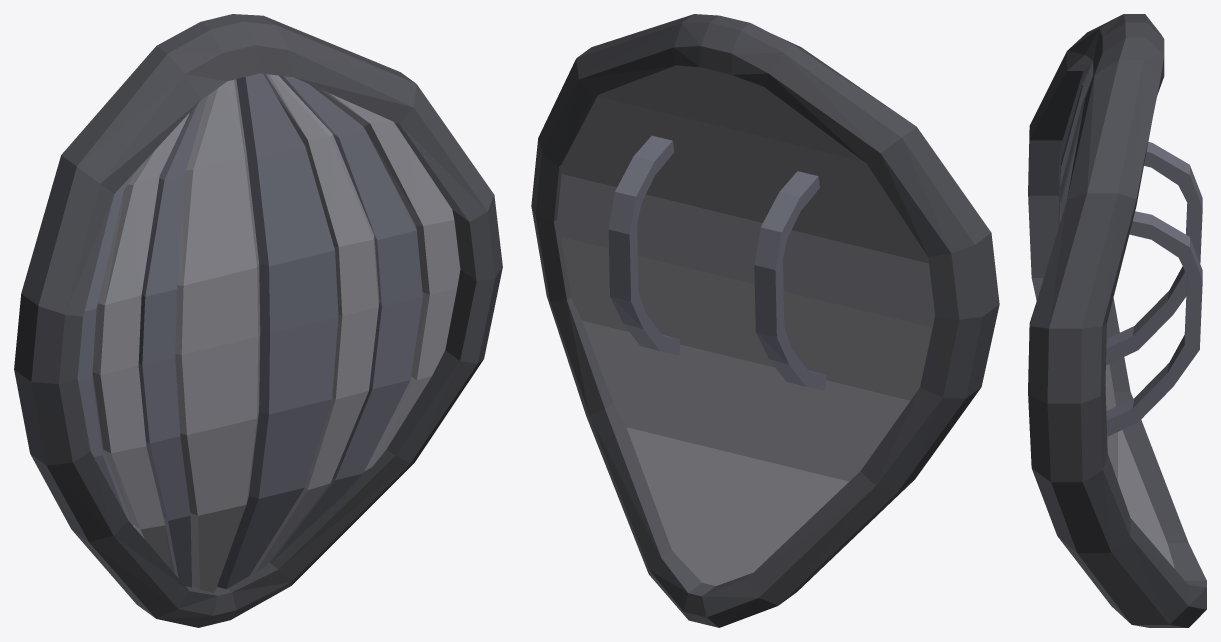
Rendered from shield_shield_8.glb.
The picture shows the model from 3 angles, left to right: view 1: azimuth 30°, elevation 25°; view 2: azimuth 150°, elevation 25°; view 3: azimuth 270°, elevation 25°; orthographic projection. The views are drawn at different scales.
Visible parts, largest first — view 1: shield_8; view 2: shield_8; view 3: shield_8.
Boxes of the visible parts, x1,y1,x2,y2 form: shield_8: (14, 14, 502, 627); shield_8: (531, 14, 999, 627); shield_8: (1028, 14, 1206, 627).
Size of the model in its own units: 64.44 by 79.32 by 21.77.
1 material, 1 textured.
